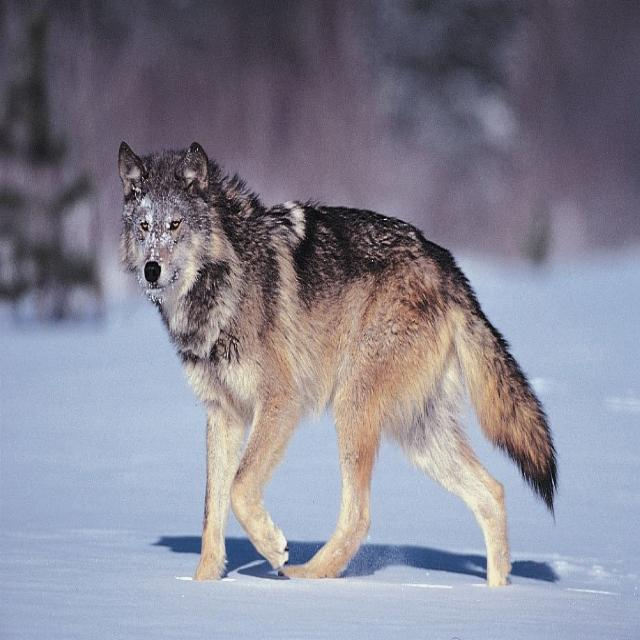wolf: (119, 142, 557, 584)
